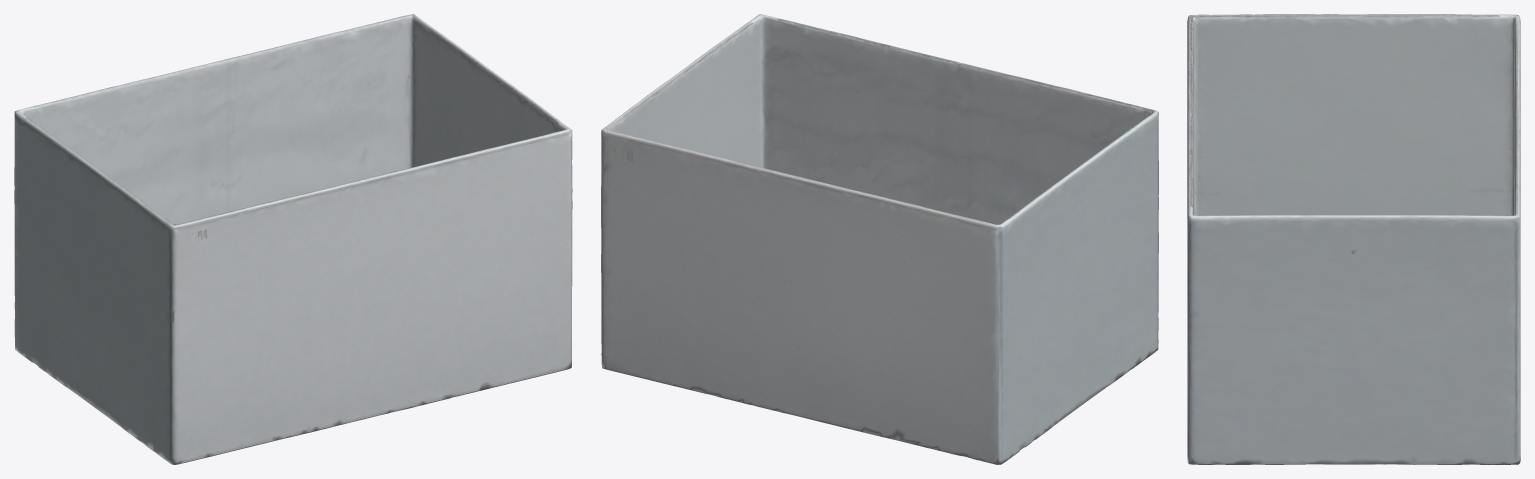
The model's file is 比色皿2.glb.
The picture shows the model from 3 angles, left to right: view 1: azimuth 30°, elevation 25°; view 2: azimuth 150°, elevation 25°; view 3: azimuth 270°, elevation 25°; orthographic projection. The views are drawn at different scales.
Bounding box in the file's own units: 2.01 × 1.14 × 1.39.
1 material, 1 textured.
